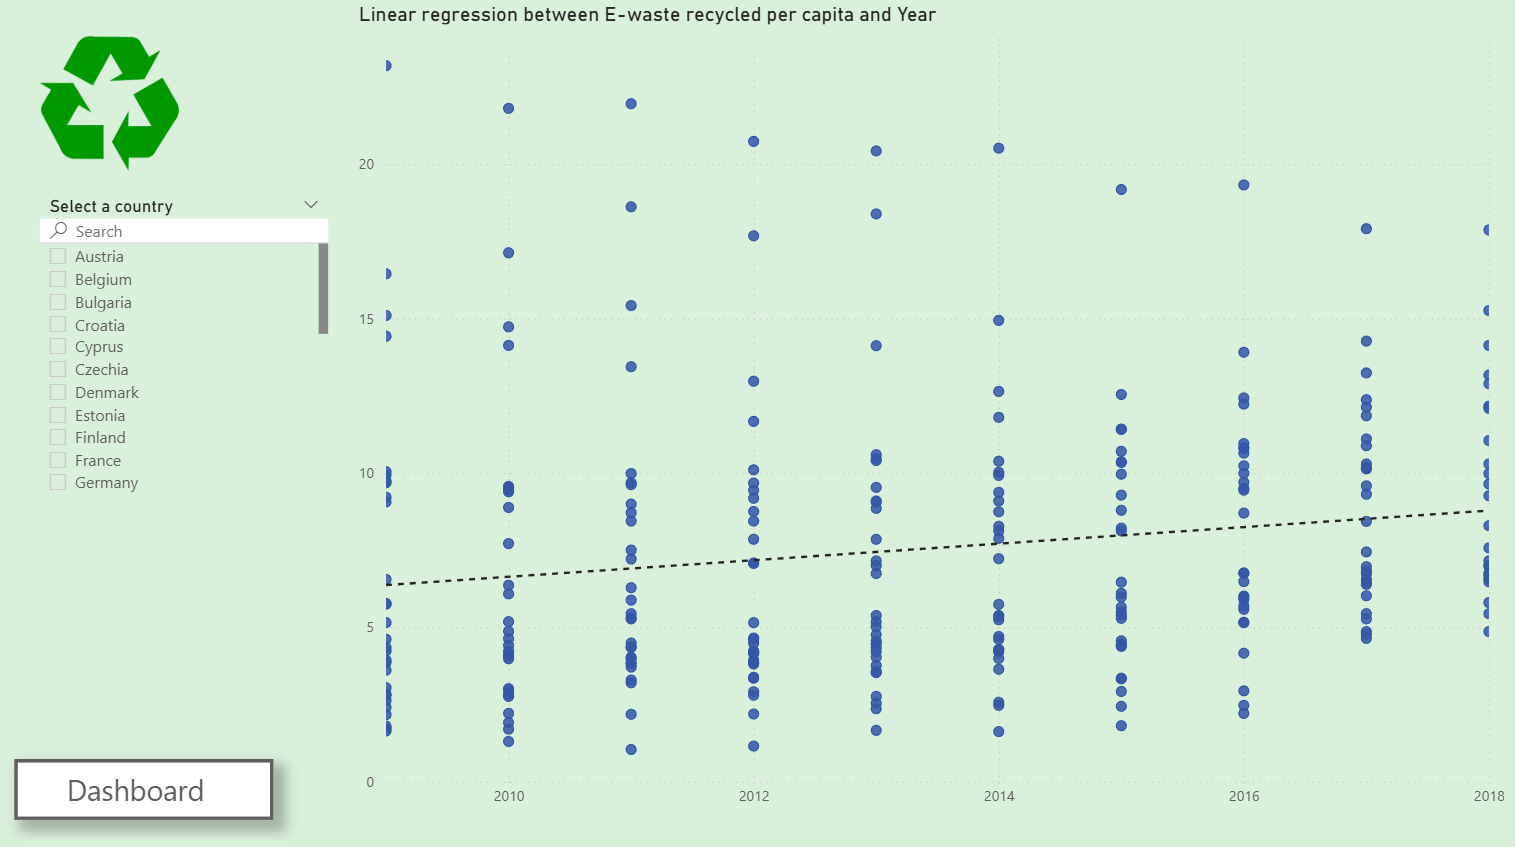

The page's visual inventory and layout, read from the dashboard file:
{"tool":"powerbi","page":{"name":"Linear Regression","canvas":[1280,720],"ordinal":3},"visuals":[{"type":"image","box":[30,28.3,126.7,126.7],"z":0},{"type":"slicer","fields":{"Values":["Electronic Waste Recycled Countries.GeoAreaName"]},"box":[30,164.5,251.8,259.1],"z":1000},{"type":"scatterChart","title":"Linear regression between E-waste recycled per capita and Year","fields":{"X":["Electronic Waste Recycled Countries.Year"],"Y":["Electronic Waste Recycled Countries.E-waste_recycled_per_capita_Kg"]},"box":[298.2,6.4,973.6,686.4],"z":2000},{"type":"actionButton","box":[13.3,643.7,218.1,51.4],"z":3000}]}

Visuals, with their boxes on the page's 1280x720 design canvas (x1, y1, x2, y2). These are canvas units, not pixel positions in the 1515x847 screenshot, which may show the page scaled, cropped or inside an application window:
image: Rect(30, 28, 157, 155)
slicer - Electronic Waste Recycled Countries.GeoAreaName: Rect(30, 164, 282, 424)
"Linear regression between E-waste recycled per capita and Year" scatterChart: Rect(298, 6, 1272, 693)
actionButton: Rect(13, 644, 231, 695)
